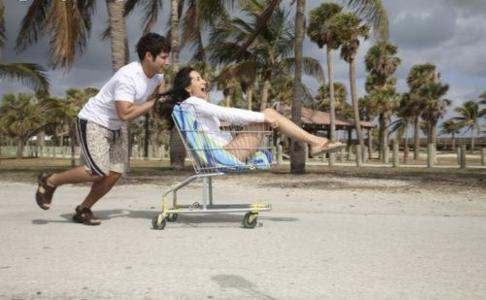person: (33, 32, 173, 227)
